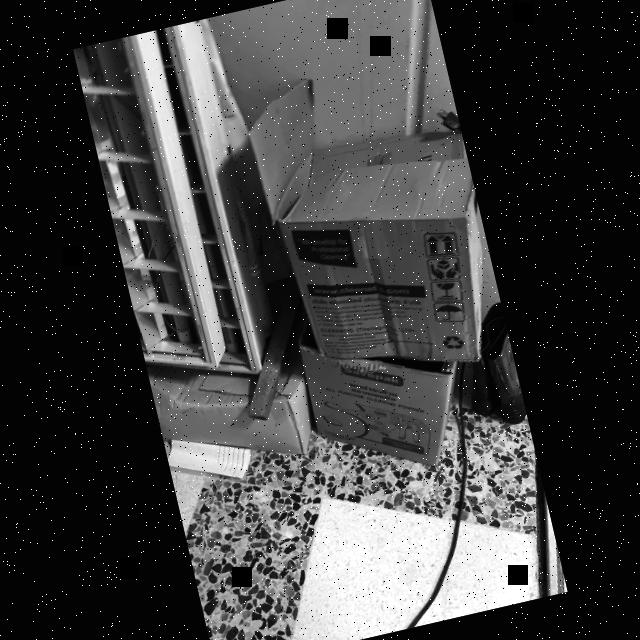cardboard_box: (240, 48, 512, 400), (286, 303, 479, 491), (150, 346, 318, 486)
